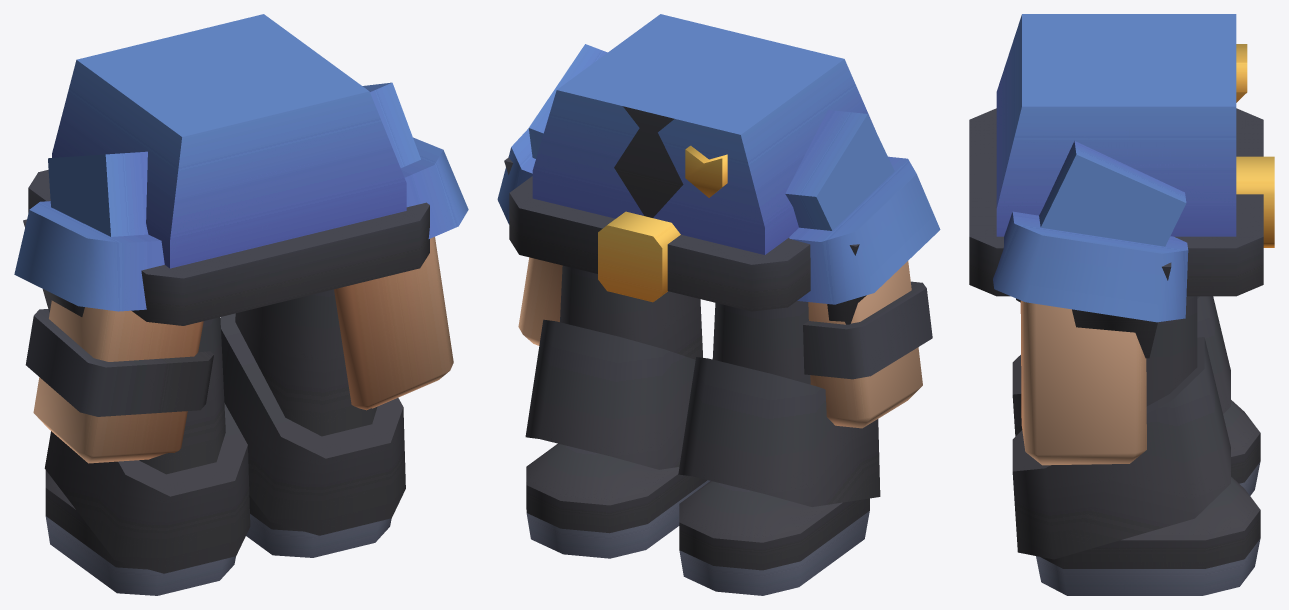
File: mini-male-c.glb
The picture shows the model from 3 angles, left to right: view 1: azimuth 30°, elevation 25°; view 2: azimuth 150°, elevation 25°; view 3: azimuth 270°, elevation 25°; orthographic projection. The views are drawn at different scales.
Parts seen in each view (by area): view 1: body-mesh; view 2: body-mesh; view 3: body-mesh.
Boxes of the visible parts, <box> form: body-mesh: <box>14,14,468,595</box>; body-mesh: <box>497,14,940,595</box>; body-mesh: <box>969,14,1274,595</box>.
Size of the model in its own units: 1.23 by 1.4 by 0.8251.
1 material, 1 textured.
